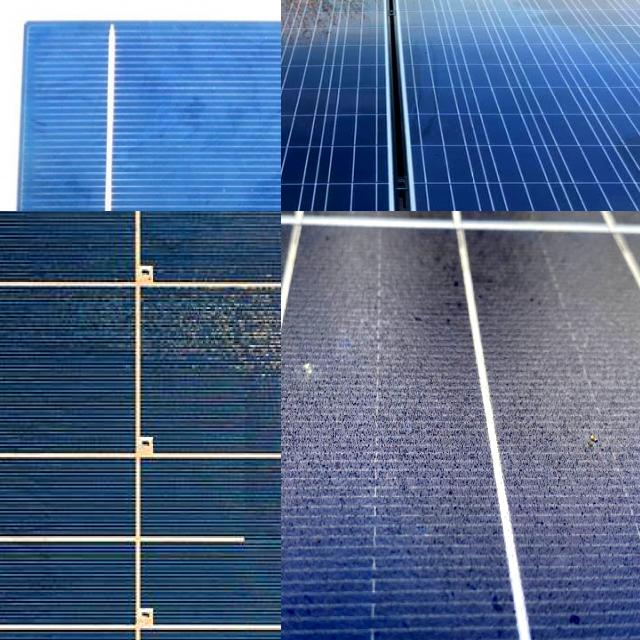crack: (347, 0, 640, 211), (281, 0, 483, 211), (366, 0, 640, 50), (281, 0, 433, 48)
shadow: (63, 277, 281, 382)
